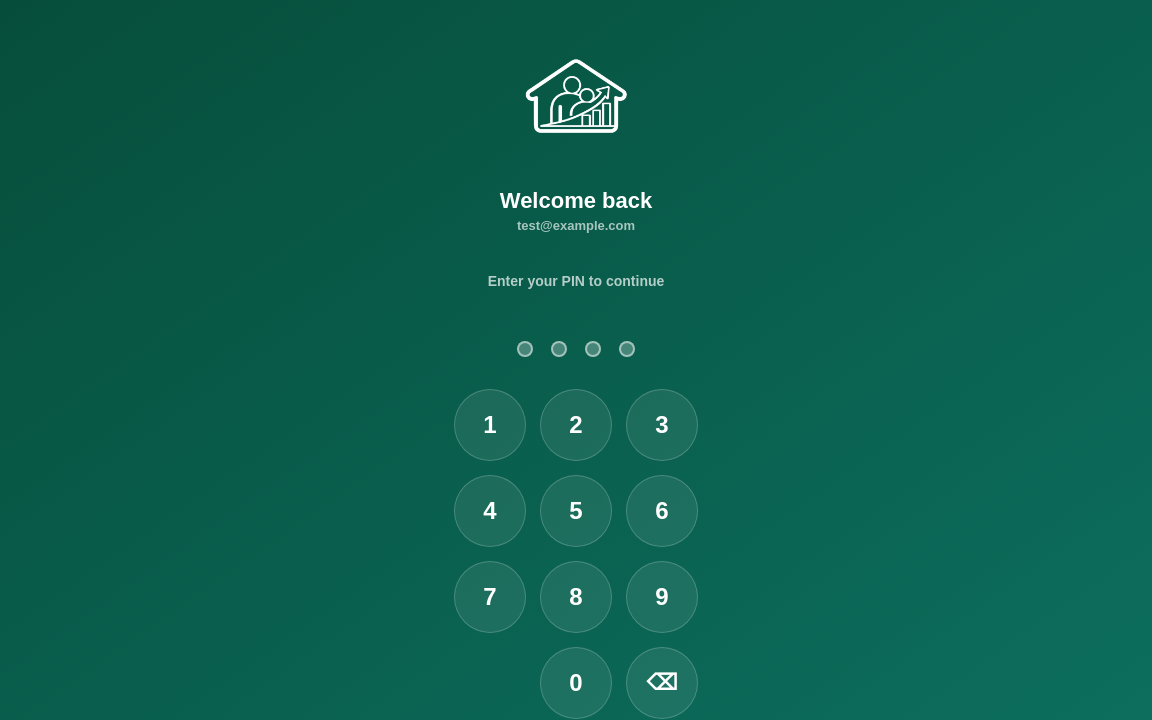
Test: PinScreen › shows error message after a failed attempt
Click the button with test id "pin-key-1" at {"x": 490, "y": 425}, box [454,389,526,461]
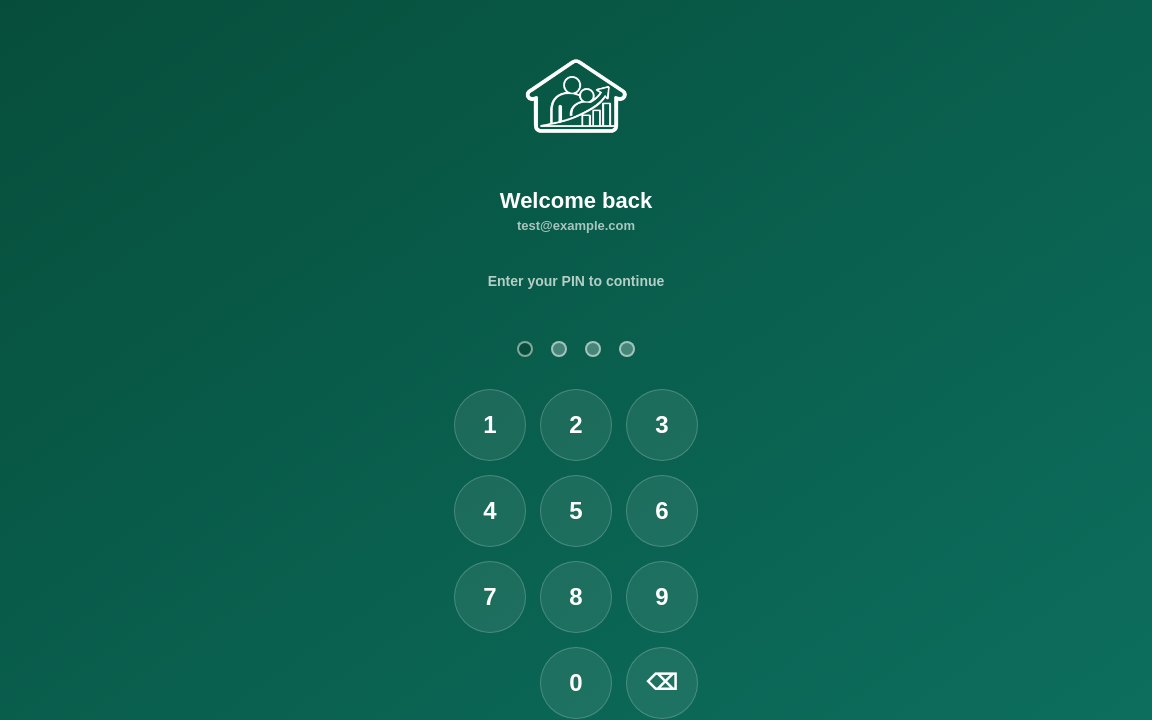
Click the button with test id "pin-key-2" at {"x": 576, "y": 425}, box [540,389,612,461]
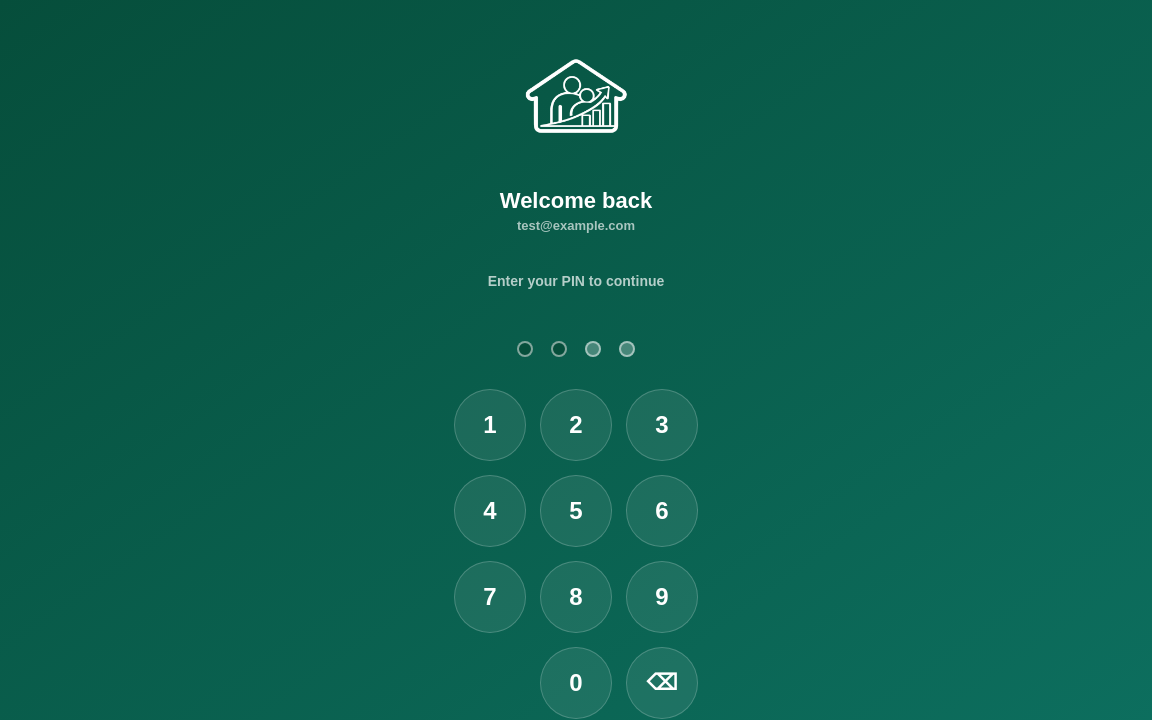
Click the button with test id "pin-key-3" at {"x": 662, "y": 425}, box [626,389,698,461]
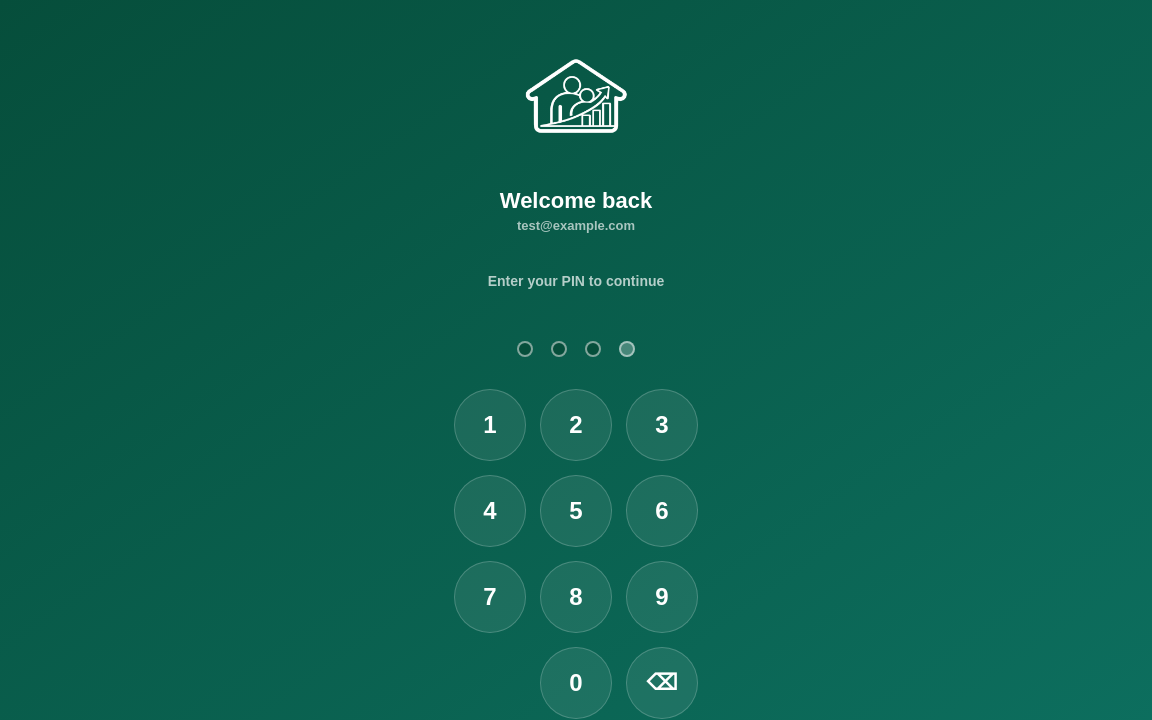
Click the button with test id "pin-key-4" at {"x": 490, "y": 511}, box [454,475,526,547]
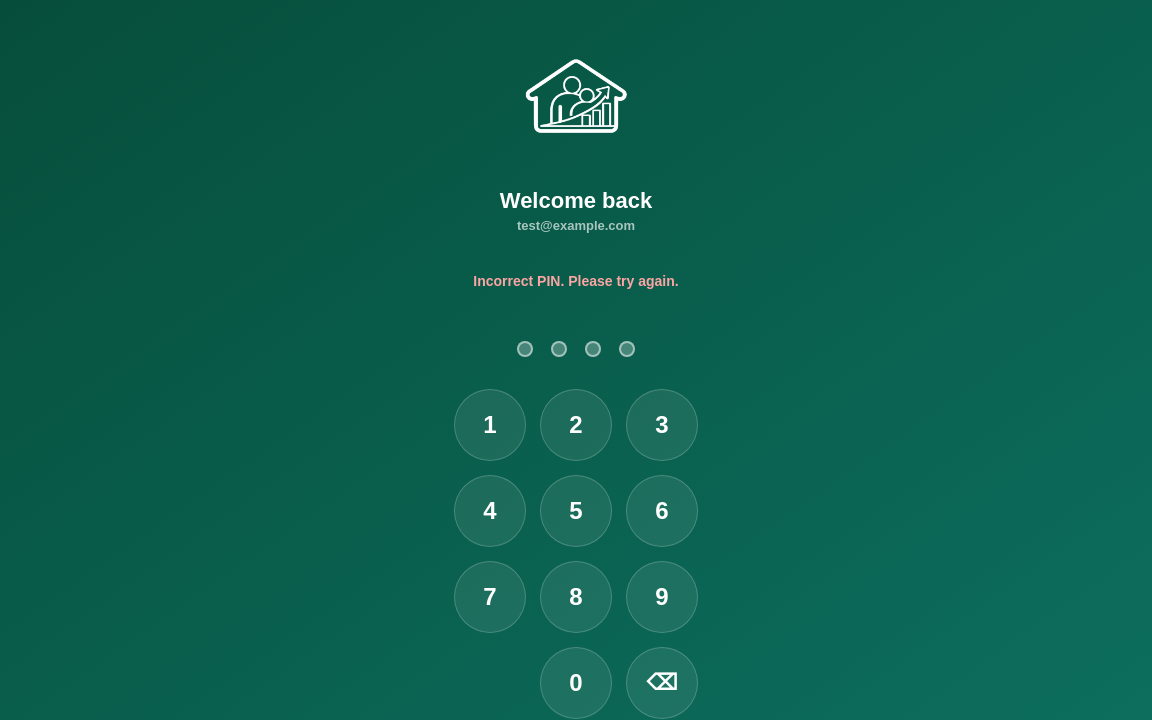
Check: the text "Incorrect PIN. Please try again." is shown, box [473,273,679,289]
